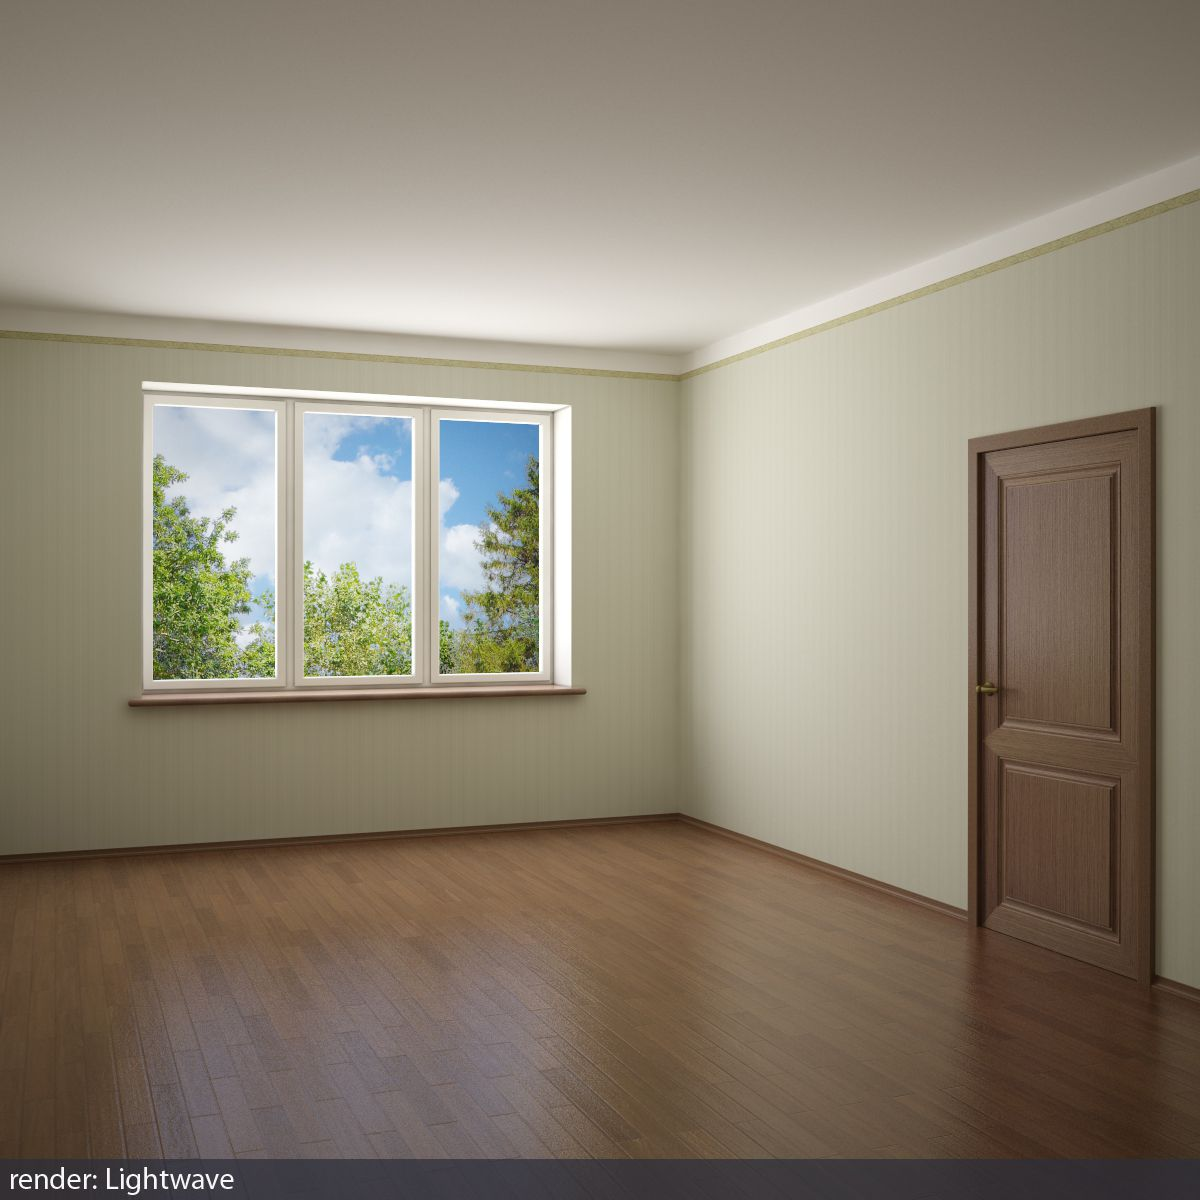door: (966, 408, 1155, 990)
wall: (680, 158, 1196, 1000), (1, 302, 681, 867)
window: (140, 378, 573, 695)
